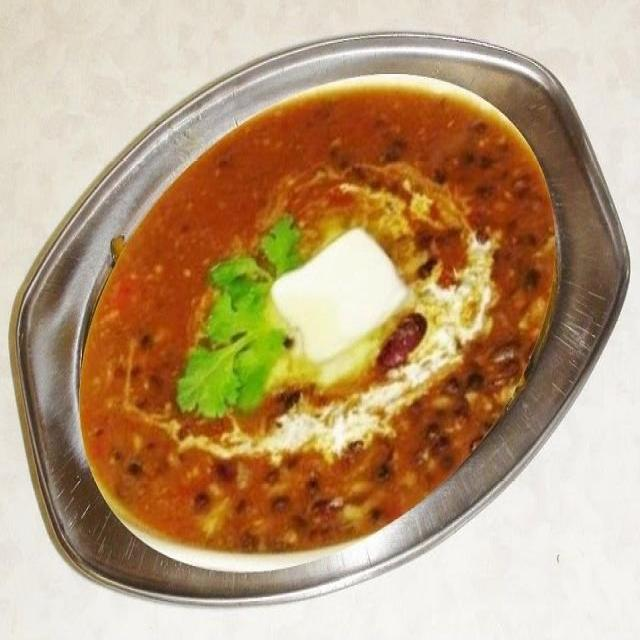dal_makhani: (51, 67, 604, 584)
